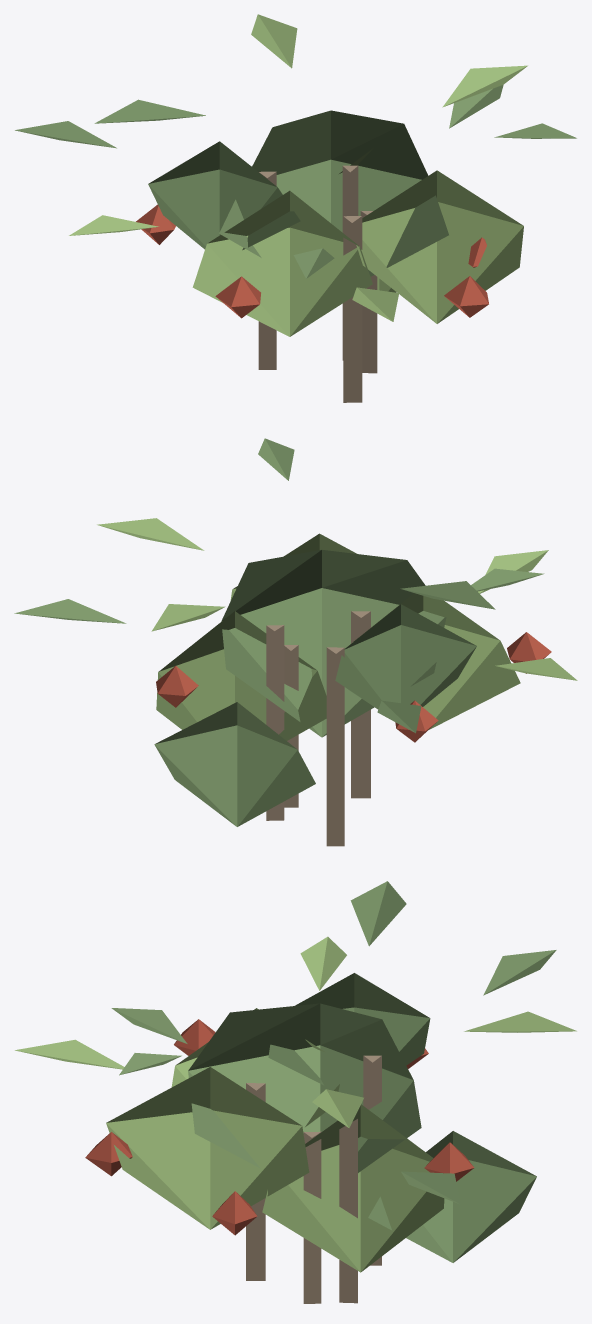
The model's file is guan.huanglu@fruiting__bloom.glb.
3 renders of one model, top to bottom at view 1: azimuth 30°, elevation 25°; view 2: azimuth 150°, elevation 25°; view 3: azimuth 270°, elevation 25°, orthographic. The views are drawn at different scales.
Visible parts, largest first — view 1: guan.huanglu@fruiting__bloom; view 2: guan.huanglu@fruiting__bloom; view 3: guan.huanglu@fruiting__bloom.
Boxes of the visible parts, left/top/right/bottom form: guan.huanglu@fruiting__bloom: left=15, top=14, right=576, bottom=402; guan.huanglu@fruiting__bloom: left=14, top=438, right=577, bottom=846; guan.huanglu@fruiting__bloom: left=15, top=881, right=576, bottom=1303.
Size of the model in its own units: 4.46 by 2.46 by 4.11.
